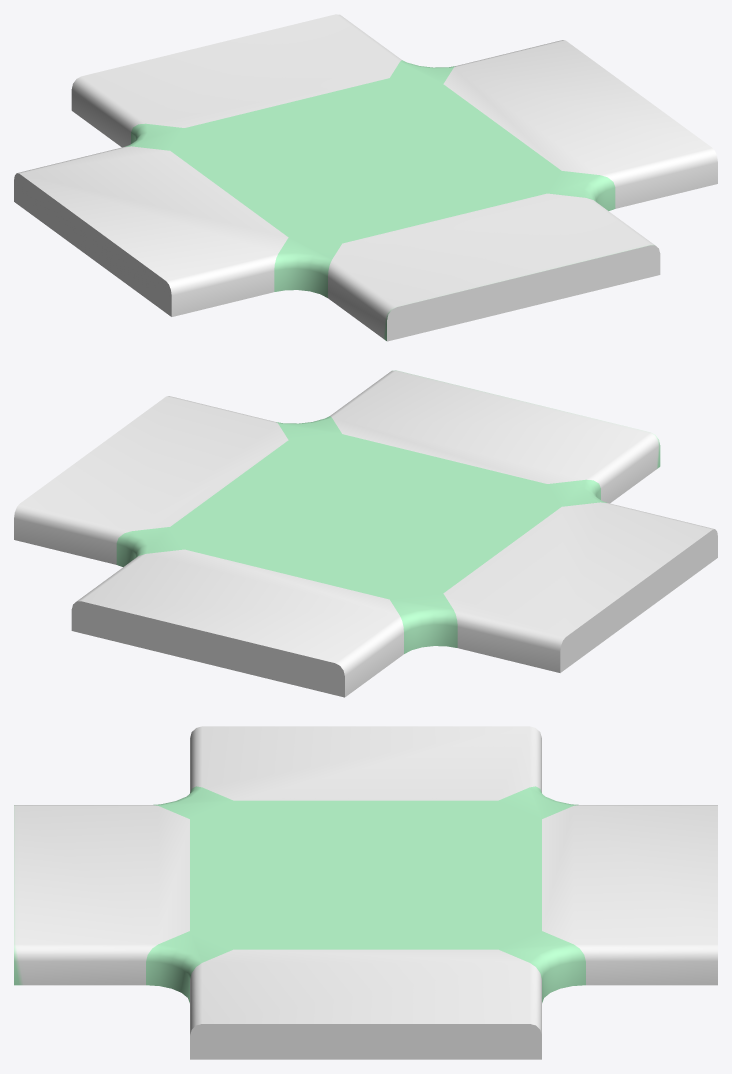
Rendered from IntersectionBig_green.fbx.
The picture shows the model from 3 angles, top to bottom: view 1: azimuth 30°, elevation 25°; view 2: azimuth 150°, elevation 25°; view 3: azimuth 270°, elevation 25°; orthographic projection. The views are drawn at different scales.
Parts seen in each view (by area): view 1: IntersectionBig_green; view 2: IntersectionBig_green; view 3: IntersectionBig_green.
Part boxes in pixels (<box>): IntersectionBig_green: <box>14,14,717,341</box>; IntersectionBig_green: <box>14,370,717,697</box>; IntersectionBig_green: <box>14,726,717,1059</box>.
Size of the model in its own units: 600 by 33.61 by 600.
Materials: 1 (1 with a texture image).
